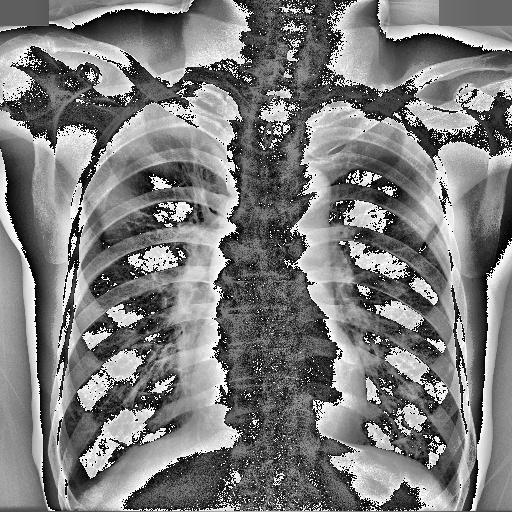0- Aortic enlargement: (280, 165, 332, 226)
10- Pleural effusion: (61, 474, 90, 508)
11- Pleural thickening: (61, 474, 90, 508), (62, 485, 94, 506)
13- Pulmonary fibrosis: (168, 91, 212, 221), (172, 106, 216, 222), (174, 130, 208, 194)
